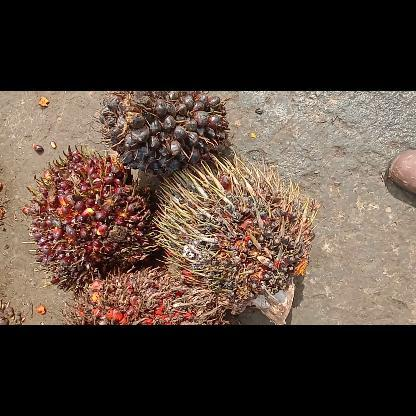TBS abnormal: (154, 150, 320, 324)
TBS masak: (24, 146, 156, 284)
TBS mentah: (98, 91, 226, 173)
Terlalu masak: (61, 268, 227, 324)
